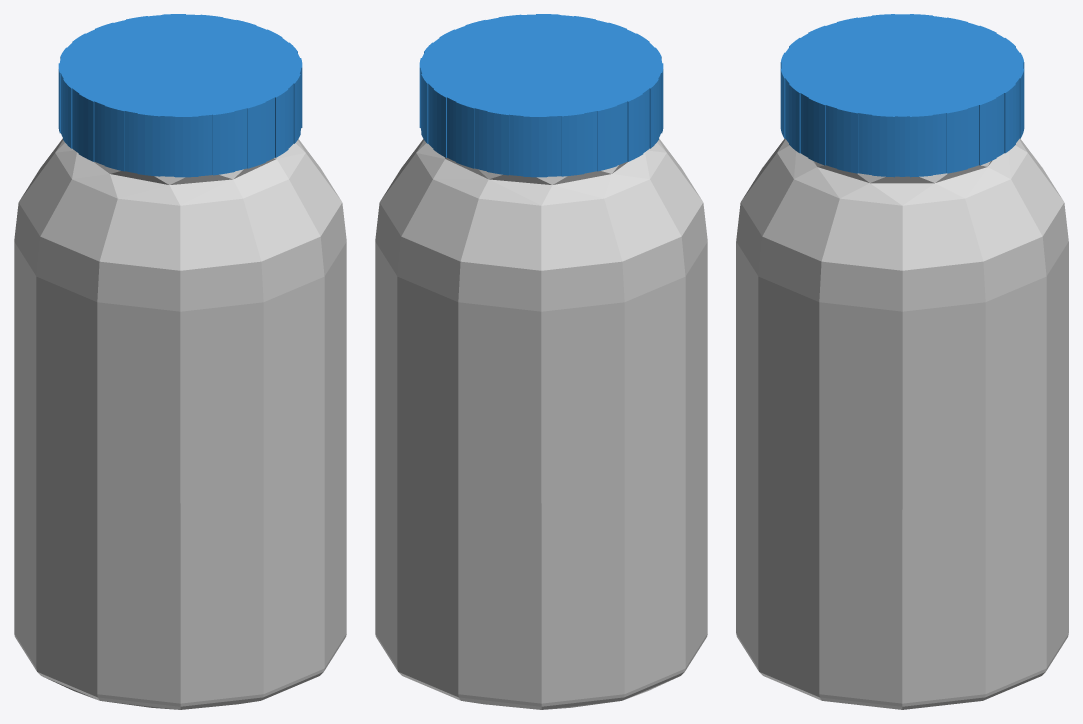
The model's file is Healing-Item-Pills.fbx.
3 renders of one model, left to right at view 1: azimuth 30°, elevation 25°; view 2: azimuth 150°, elevation 25°; view 3: azimuth 270°, elevation 25°, orthographic.
Parts seen in each view (by area): view 1: Healing-Item-Pills; view 2: Healing-Item-Pills; view 3: Healing-Item-Pills.
Boxes of the visible parts, left/top/right/bottom form: Healing-Item-Pills: left=14, top=14, right=346, bottom=709; Healing-Item-Pills: left=375, top=14, right=707, bottom=709; Healing-Item-Pills: left=736, top=14, right=1068, bottom=709.
Bounding box in the file's own units: 150 × 288 × 150.
